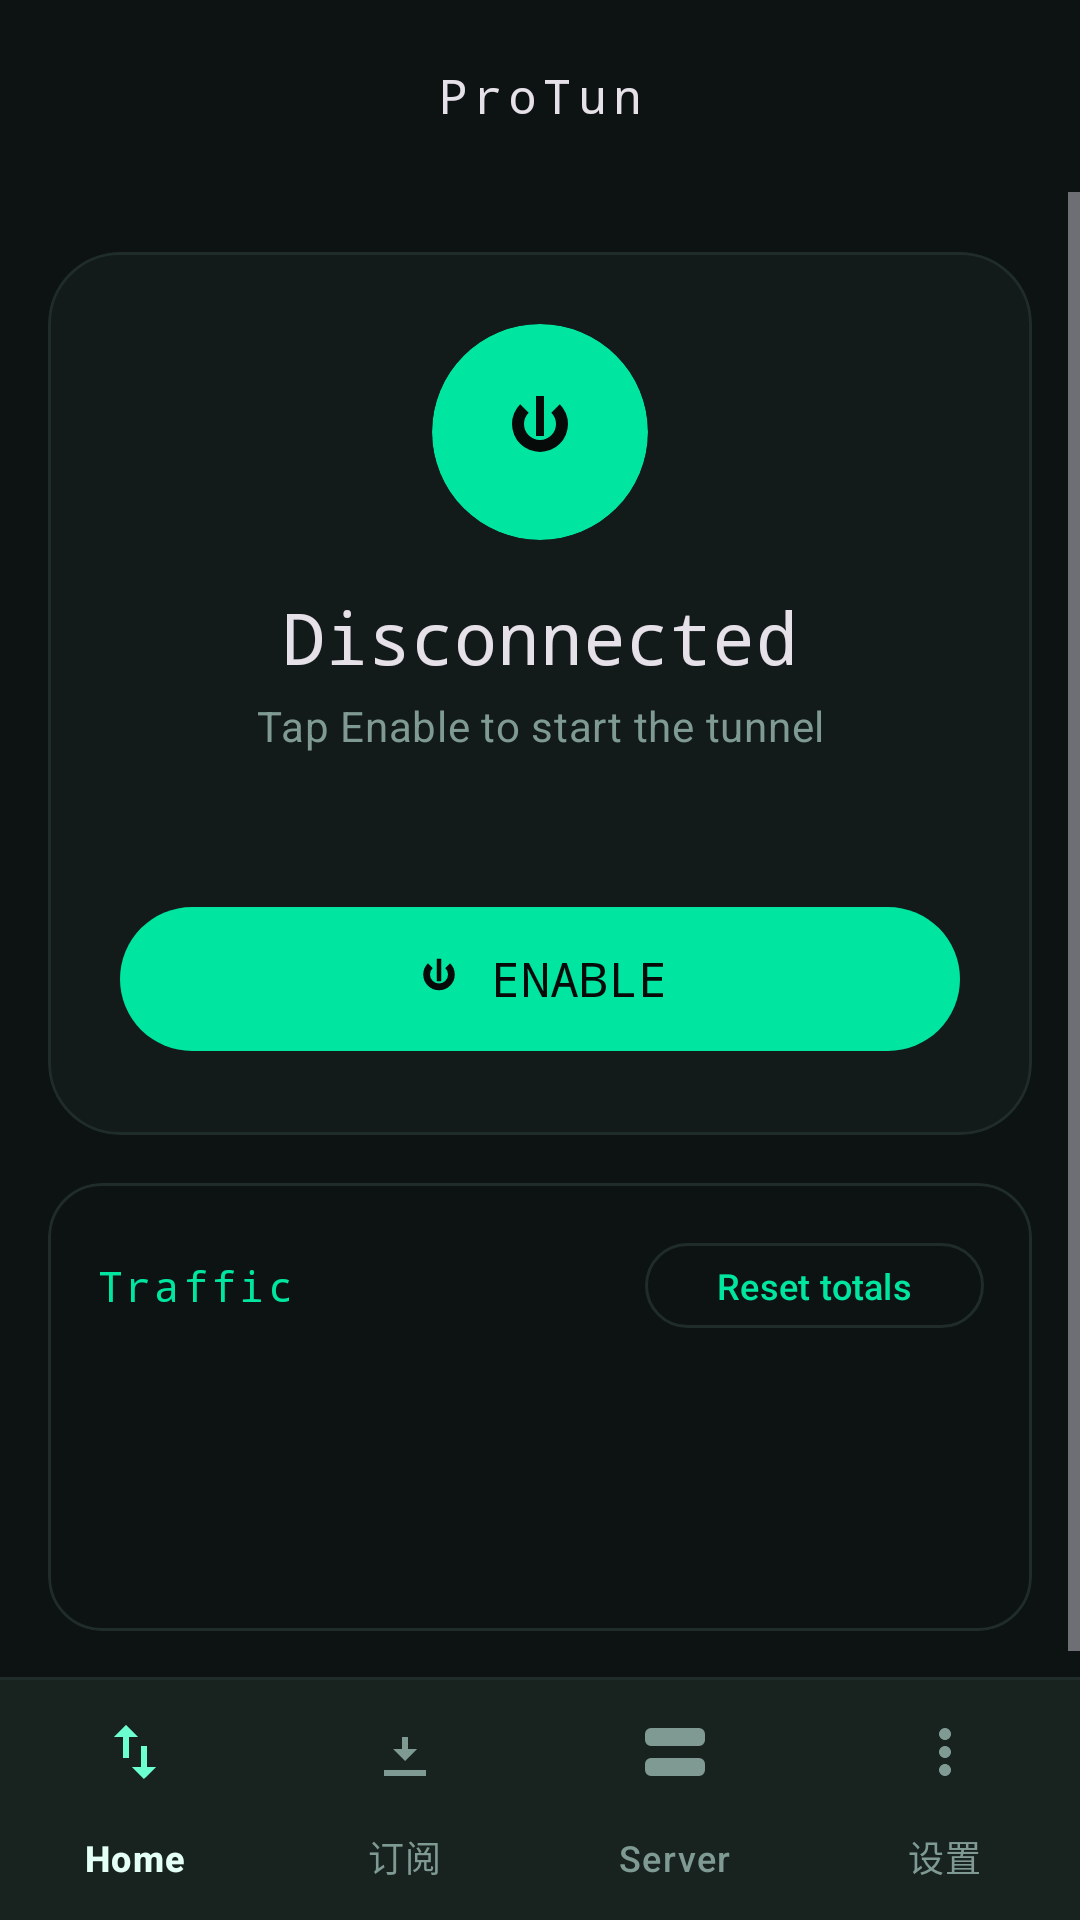

Icons on this 1080w x 1920h Android screen, each with its box as Rect(x1, y1, x2, y2):
power: Rect(512, 396, 568, 452)
